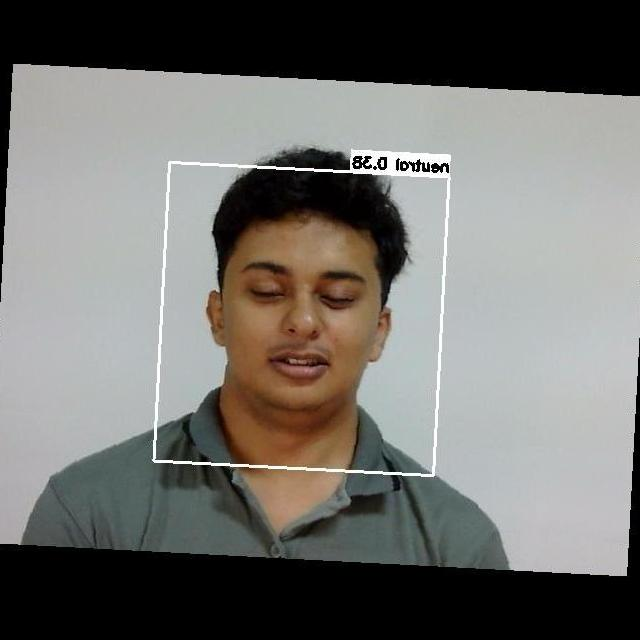Fear: (206, 223, 385, 405)
